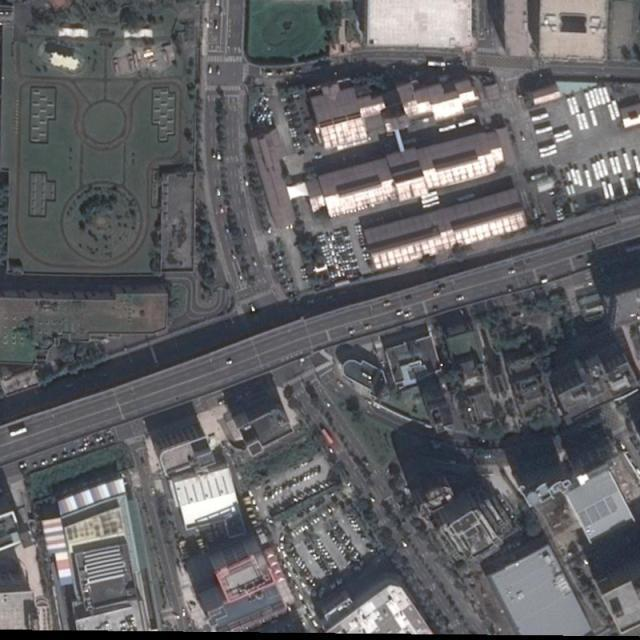vehicle: (611, 101, 622, 118), (566, 98, 576, 116), (555, 134, 573, 144), (584, 170, 594, 188), (591, 163, 601, 181), (538, 145, 557, 154), (10, 428, 27, 438), (584, 93, 594, 110), (607, 105, 617, 122), (589, 110, 599, 127), (580, 113, 590, 130), (599, 159, 609, 176), (609, 158, 619, 175), (607, 183, 617, 200), (622, 154, 632, 171), (589, 90, 598, 108), (540, 150, 558, 159), (596, 161, 605, 179), (571, 97, 580, 114), (593, 89, 602, 106), (576, 114, 585, 131), (554, 130, 571, 139), (570, 169, 579, 186), (576, 170, 585, 187), (601, 182, 610, 199), (620, 178, 629, 195), (598, 88, 606, 106), (531, 114, 549, 122), (535, 127, 553, 135), (614, 157, 622, 174), (602, 87, 611, 102), (633, 156, 640, 173), (226, 358, 234, 365), (40, 459, 48, 466), (52, 454, 59, 462), (404, 312, 413, 318), (216, 186, 222, 195), (78, 446, 87, 452), (216, 66, 221, 76), (20, 462, 27, 469), (541, 278, 549, 284), (62, 453, 70, 459), (363, 325, 372, 330), (217, 150, 222, 159), (106, 437, 115, 442), (434, 291, 441, 297), (99, 440, 106, 446), (384, 302, 392, 307), (456, 297, 464, 302), (221, 206, 226, 214), (95, 437, 103, 442), (182, 608, 186, 618), (349, 329, 356, 334), (85, 441, 92, 446), (209, 66, 213, 74), (212, 150, 216, 158), (397, 311, 404, 315), (509, 270, 516, 274), (215, 22, 218, 30), (216, 1, 219, 6)
